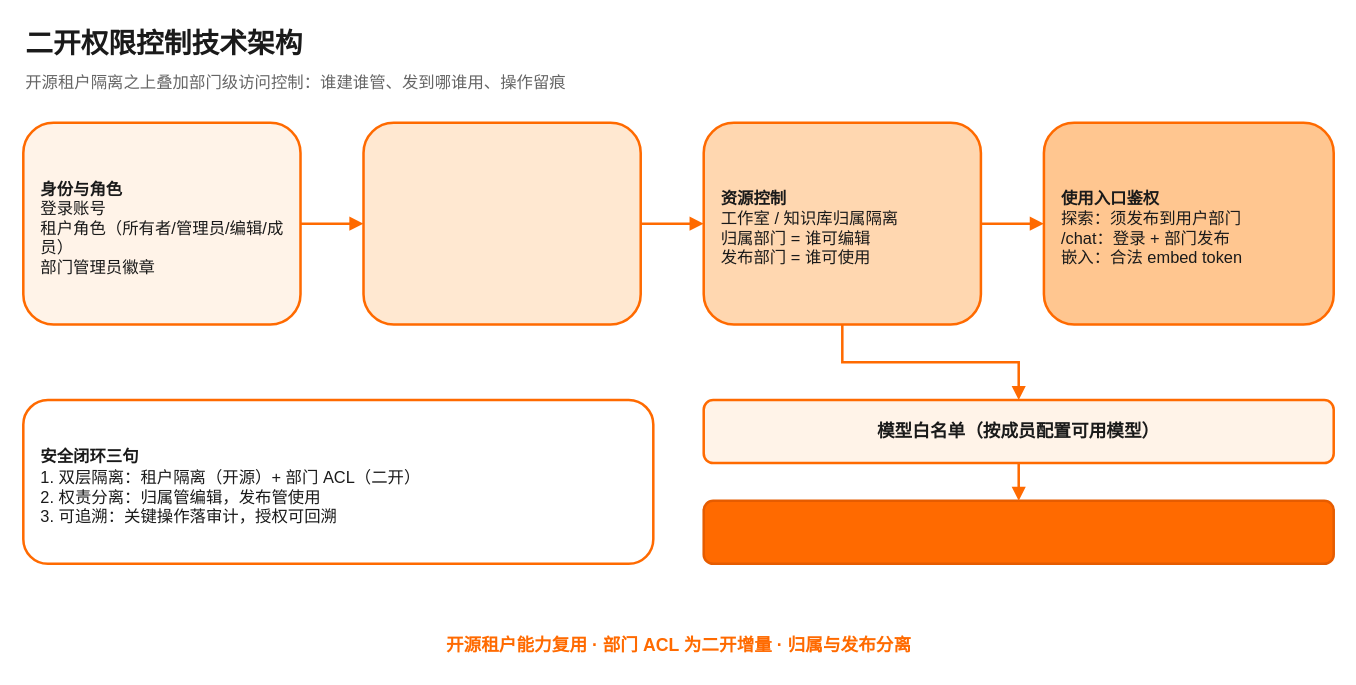
Some shapes in this 1356 by 685 pixel diagram are drawn without their labels. Here are the shapes that lost their labels. From the top down, the centre of each, then its label:
At point 501,223: "组织边界 树形部门（最多 10 级） 成员归属部门 本部门 / 子部门管辖范围".
At point 1018,531: "关键操作 → 审计日志（发布 / 转移 / 模型授权等）".
